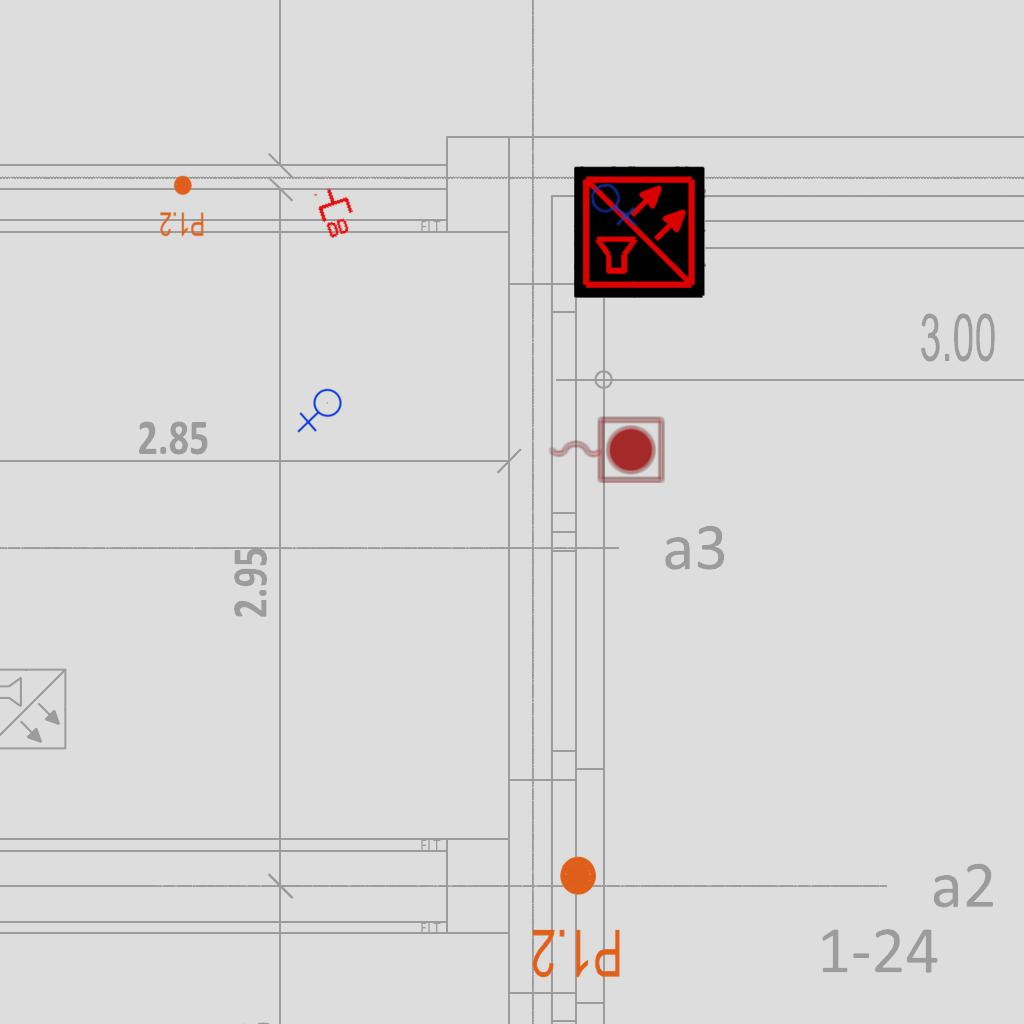Datenanschluss_zweifach: (312, 181, 362, 242)
Downlight_LED_Einbauleuchten_Flur: (530, 853, 623, 981), (159, 174, 205, 238)
Elektroanschluss_allgemein_230V_Geraeteanschlussdose_230V: (589, 177, 640, 230), (297, 388, 346, 435)
OKW_Multisensormelder_(Kombination_optischer_Rauch-Kahlenmonoxid_Waerme-Melder): (574, 166, 706, 298)
Zugtaster: (545, 413, 667, 485)
